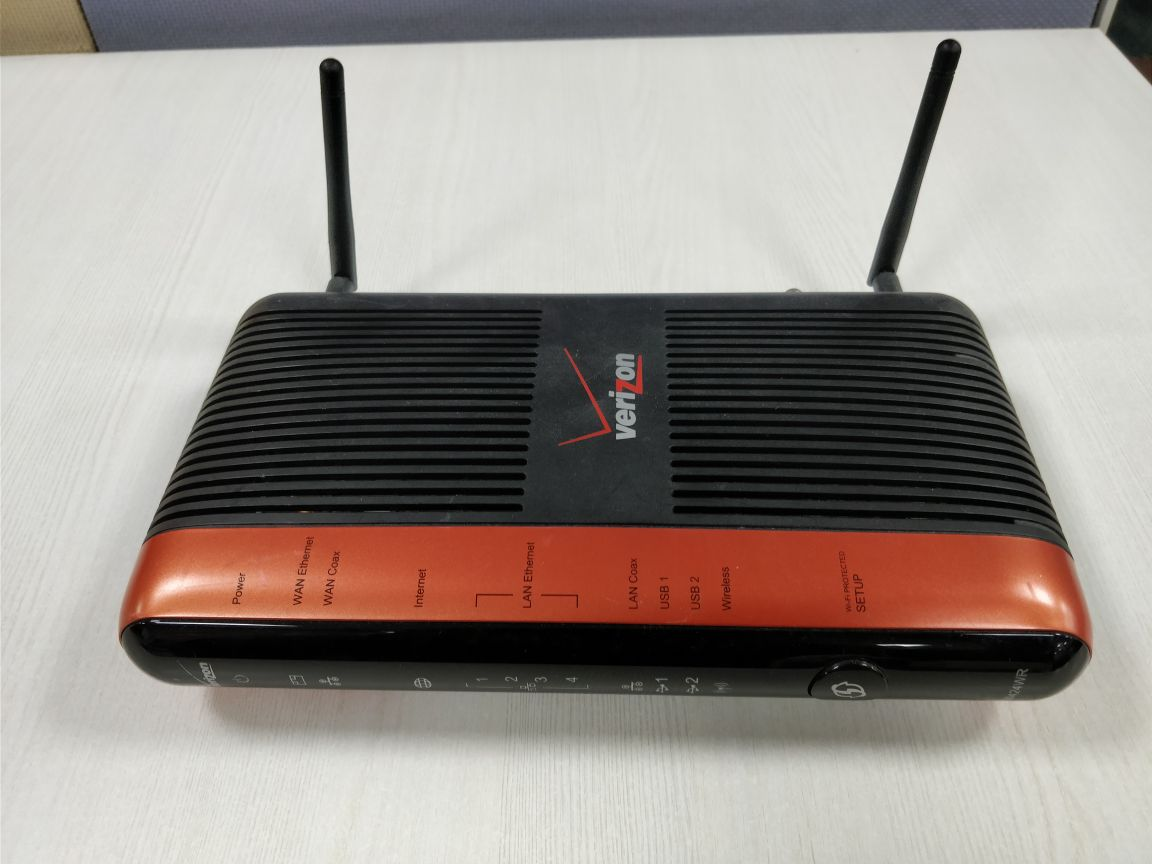Verizon Router: (118, 53, 1117, 752)
